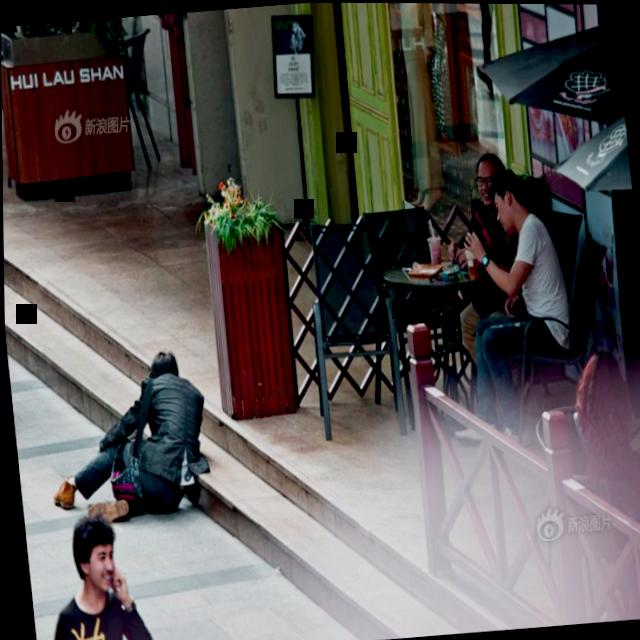Fall-Detected: (29, 331, 217, 529)
